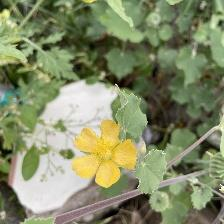indian mallow: (72, 119, 141, 190)
